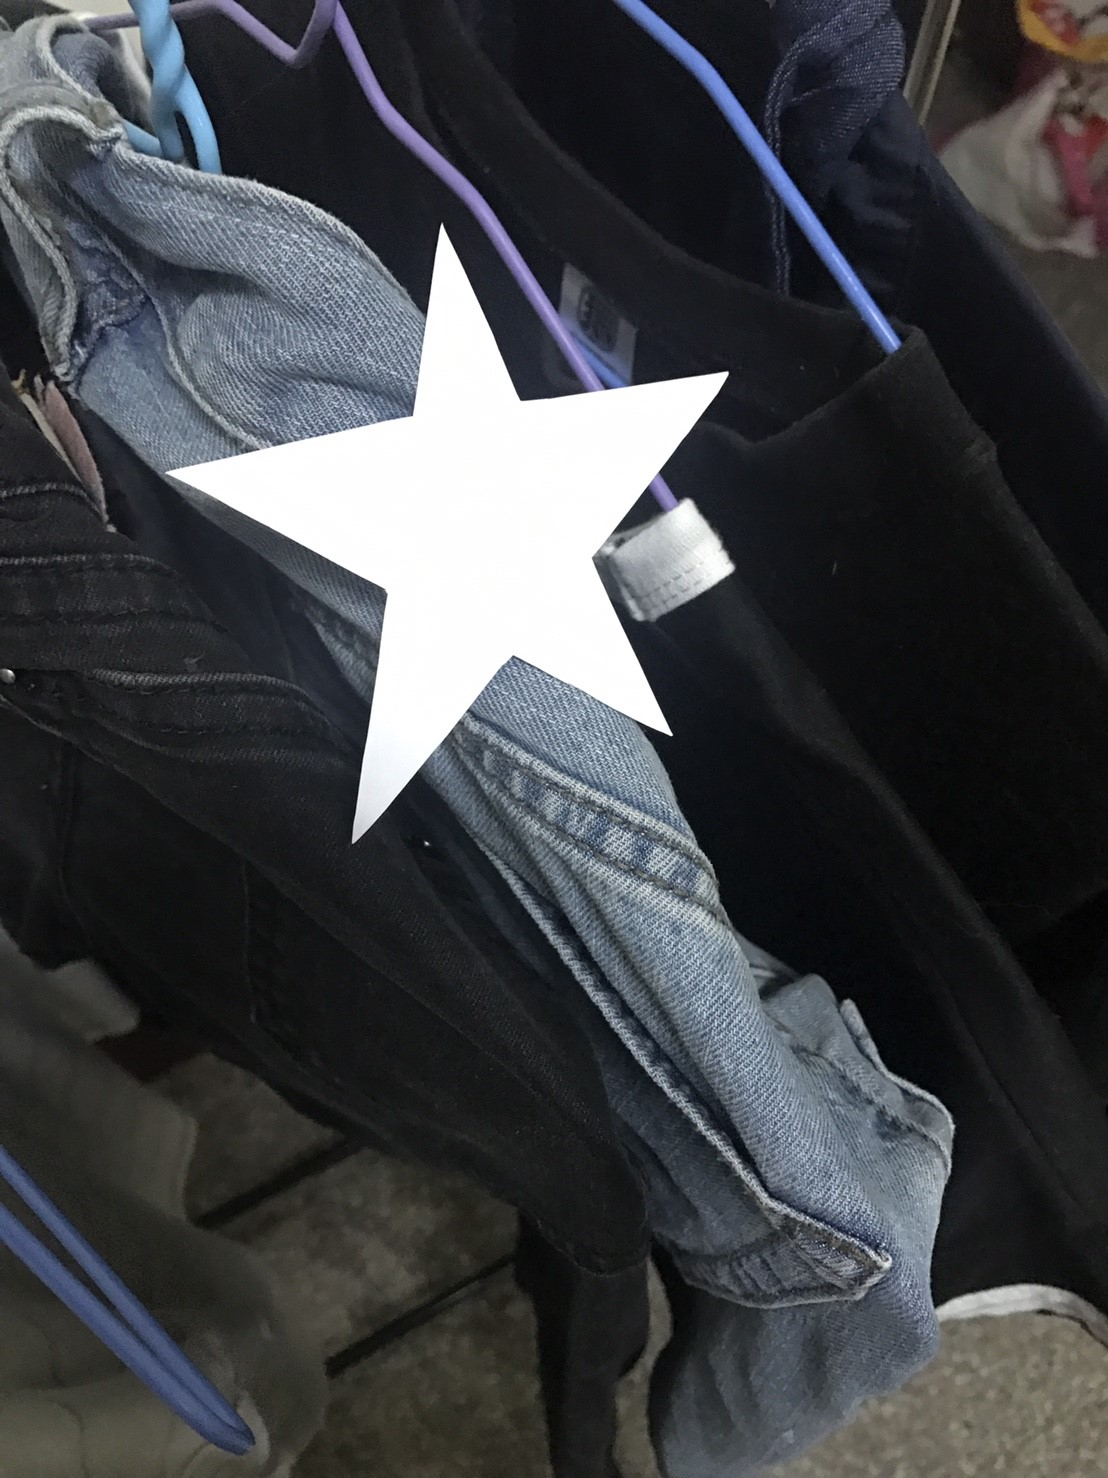star: (151, 218, 755, 854)
